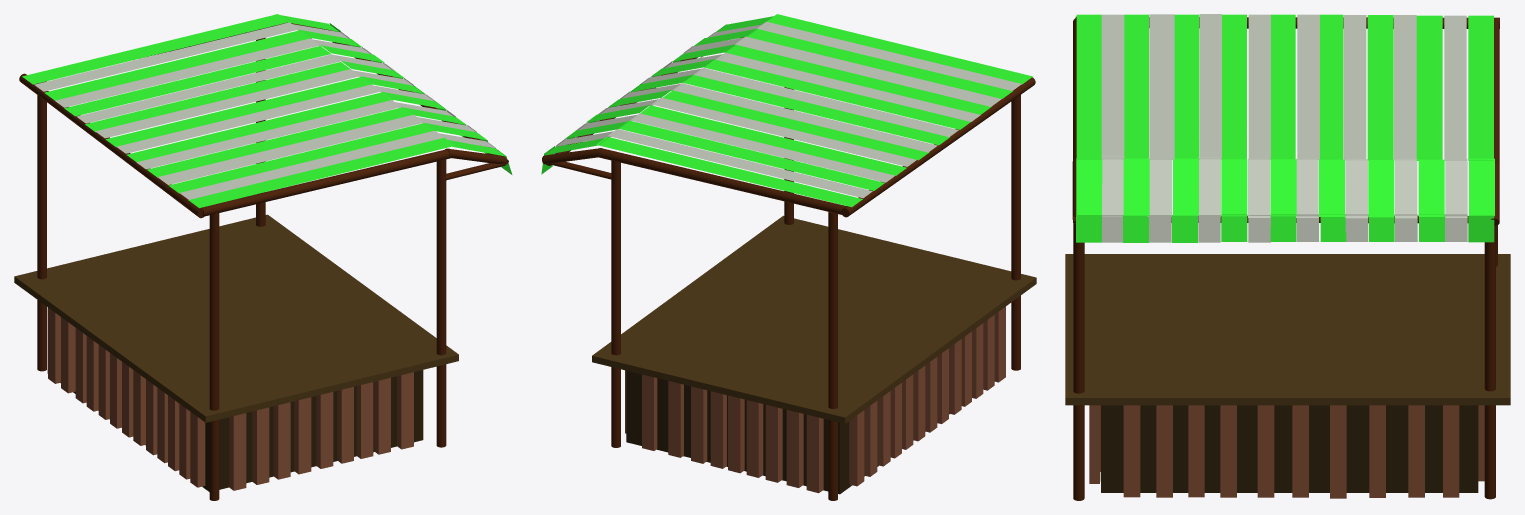
File: Stall3_TJ.glb
The picture shows the model from 3 angles, left to right: view 1: azimuth 30°, elevation 25°; view 2: azimuth 150°, elevation 25°; view 3: azimuth 270°, elevation 25°; orthographic projection. The views are drawn at different scales.
Parts seen in each view (by area): view 1: Cube.001, Cube, Cylinder.001, Cylinder.002, Plane.012, Plane.016, Plane, Plane.014, Plane.003, Plane.008, Plane.006, Plane.002 (+35 smaller); view 2: Cube.001, Cube, Plane.014, Plane.016, Plane.012, Plane.006, Plane.008, Plane.003, Plane.004, Plane.002, Plane, Cylinder (+34 smaller); view 3: Cube.001, Cube, Plane.012, Plane.014, Plane, Plane.003, Plane.016, Plane.004, Plane.006, Plane.008, Plane.002, Plane.010 (+57 smaller).
Part boxes in pixels (x1,y1,x2,y2): Cube.001: (14, 214, 458, 422); Cube: (47, 307, 423, 491); Cylinder.001: (209, 212, 219, 500); Cylinder.002: (436, 159, 446, 447); Plane.012: (64, 46, 330, 116); Plane.016: (22, 14, 288, 84); Plane: (188, 137, 454, 207); Plane.014: (44, 30, 310, 100); Plane.003: (157, 114, 423, 184); Plane.008: (105, 77, 371, 147); Plane.006: (126, 92, 392, 162); Plane.002: (168, 123, 434, 193); Cube.001: (592, 215, 1036, 423); Cube: (626, 370, 949, 494); Plane.014: (618, 120, 884, 190); Plane.016: (596, 136, 862, 207); Plane.012: (640, 105, 906, 175); Plane.006: (704, 59, 970, 129); Plane.008: (683, 75, 949, 145); Plane.003: (735, 36, 1001, 106); Plane.004: (724, 45, 990, 114); Plane.002: (746, 29, 1012, 98); Plane: (767, 14, 1032, 84); Cylinder: (828, 212, 837, 500); Cube.001: (1065, 254, 1510, 405); Cube: (1101, 405, 1478, 492); Plane.012: (1367, 15, 1393, 160); Plane.014: (1416, 15, 1442, 160); Plane: (1076, 14, 1102, 159); Plane.003: (1149, 14, 1174, 159); Plane.016: (1468, 15, 1493, 160); Plane.004: (1174, 14, 1199, 159); Plane.006: (1221, 14, 1246, 159); Plane.008: (1270, 14, 1295, 159); Plane.002: (1123, 14, 1148, 159); Plane.010: (1318, 14, 1343, 159).
Bounding box in the file's own units: 7.76 × 6.99 × 8.13.
8 materials, 8 textured.
